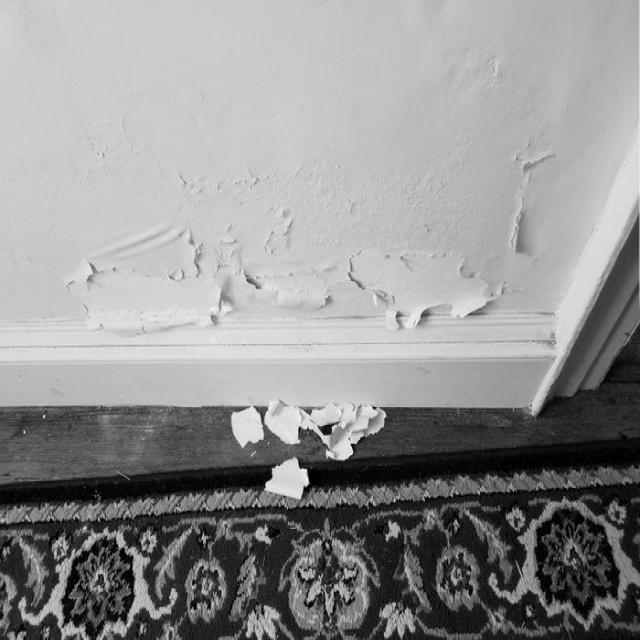peeling paint: (45, 124, 562, 498)
